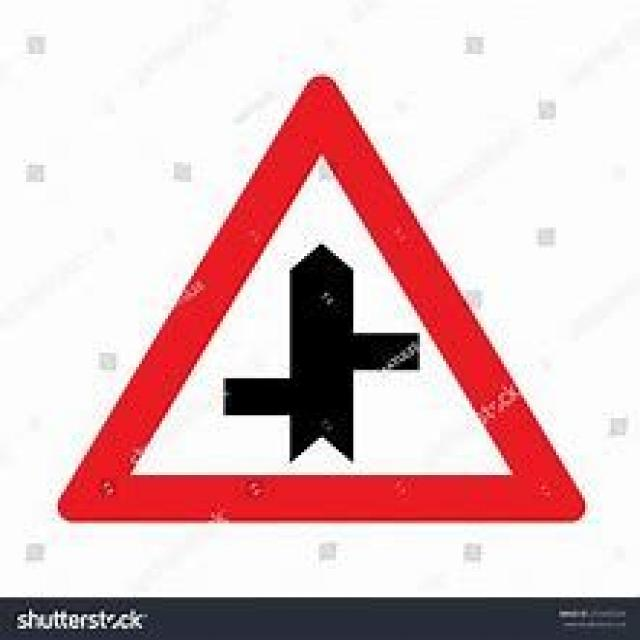STAGGERED_INTERSECTION: (49, 68, 588, 526)
